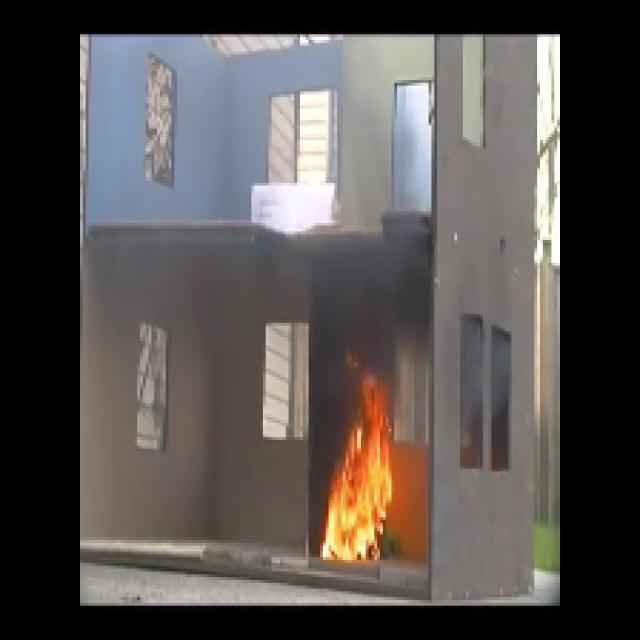Fire: (322, 380, 397, 556)
Smoke: (332, 222, 438, 349)
